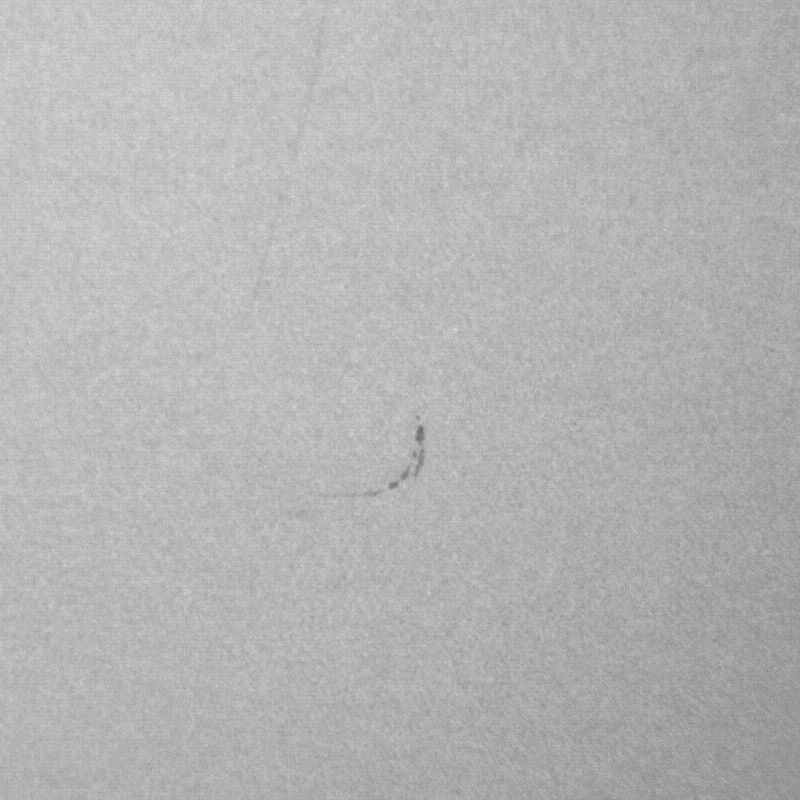defect: (355, 428, 428, 499)
